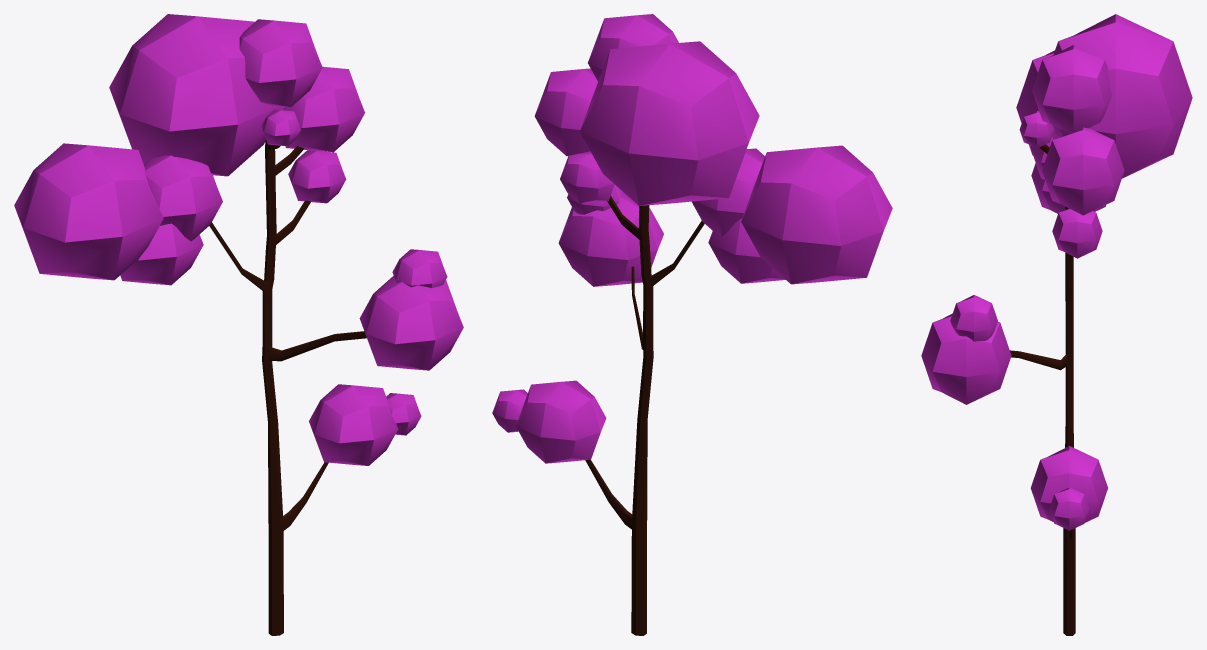
File: Arbol1.fbx
The picture shows the model from 3 angles, left to right: view 1: azimuth 30°, elevation 25°; view 2: azimuth 150°, elevation 25°; view 3: azimuth 270°, elevation 25°; orthographic projection. The views are drawn at different scales.
Visible parts, largest first — view 1: hojas, Mesh; view 2: hojas, Mesh; view 3: hojas, Mesh.
Boxes of the visible parts, box(x1,y1,x2,y2) form: hojas: box(14, 14, 463, 465); Mesh: box(209, 140, 366, 635); hojas: box(492, 14, 892, 463); Mesh: box(585, 196, 704, 635); hojas: box(921, 14, 1192, 530); Mesh: box(1010, 144, 1075, 635).
Size of the model in its own units: 118 by 177 by 74.32.
